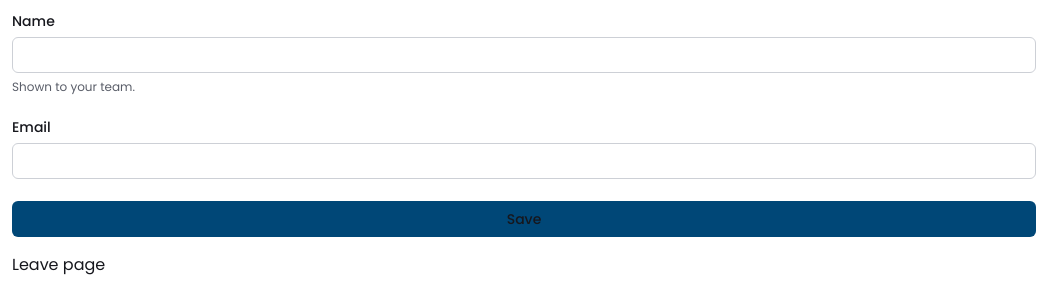
useZodForm + Form › maps a 422 from submit to the right field and keeps the input
Type "Alice" into the field labelled "Name" at (524, 55), box [12,37,1036,73]
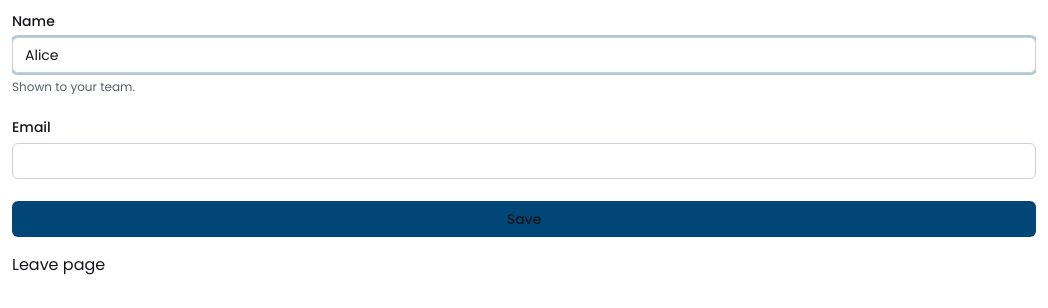
Type "a@example.com" into the field labelled "Email" at (524, 161), box [12,143,1036,179]
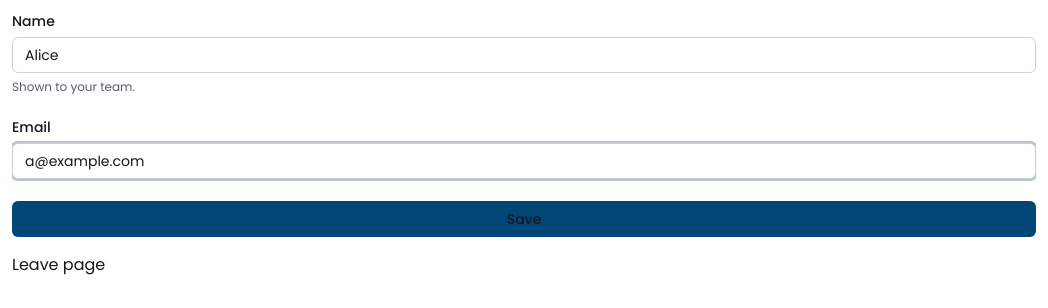
Click the button "Save" at (524, 219), box [12,201,1036,237]
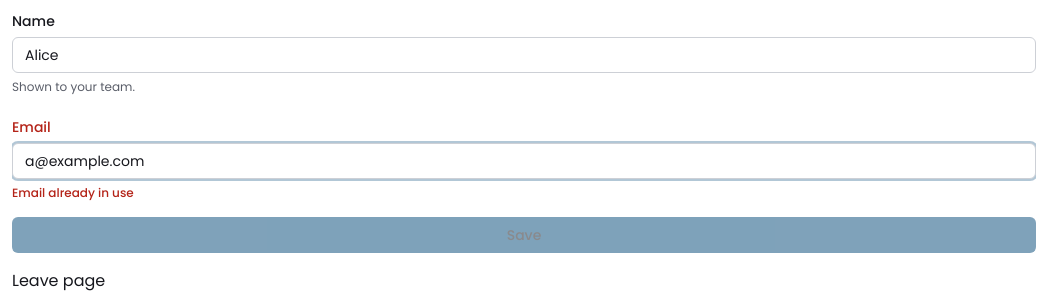
Result: the text "Email already in use" is shown at [12,184,134,201]
